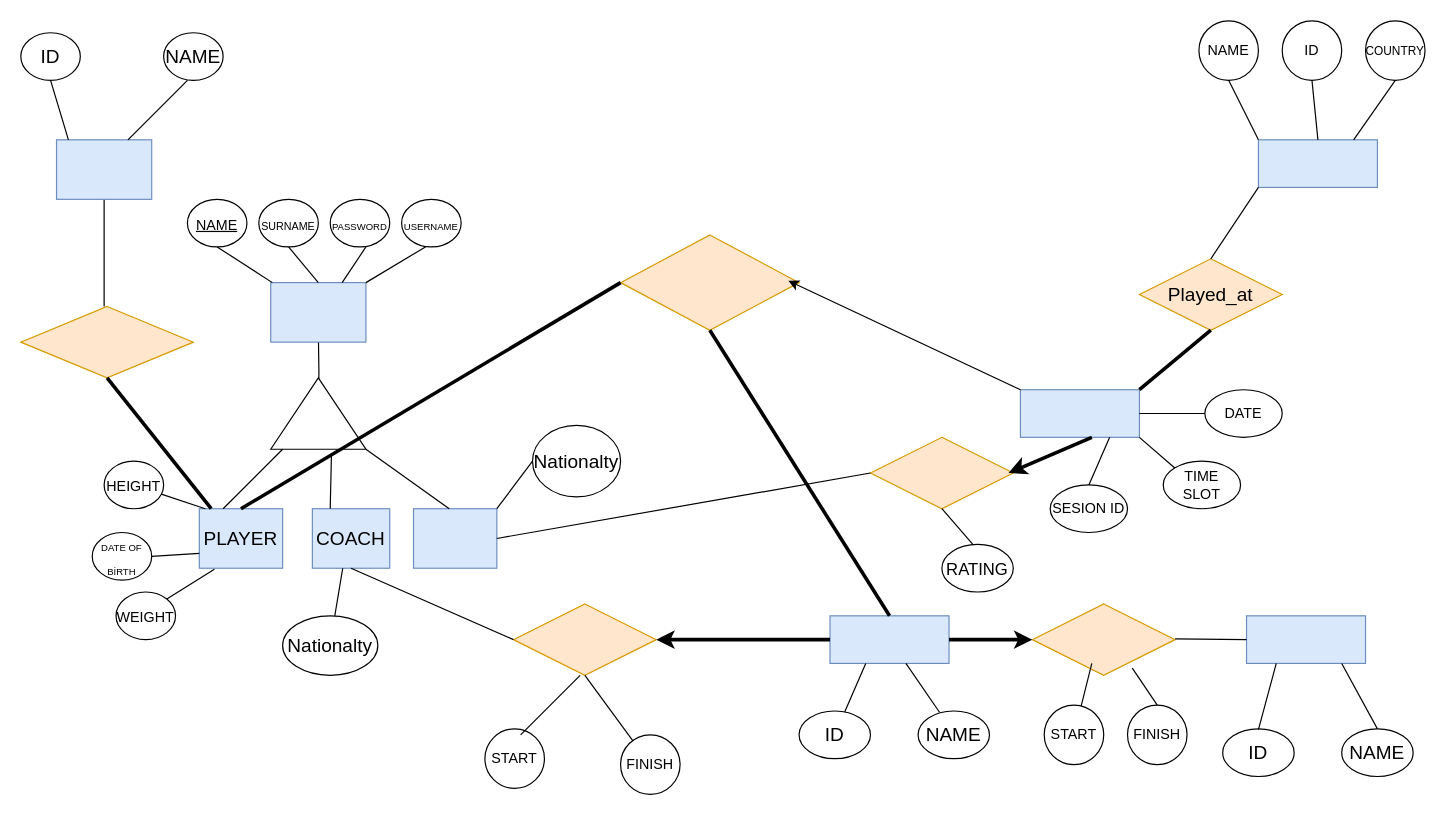
This 1446x815 diagram has some shape labels left out. The box of each missing label's shape, as (x1, y1, x2, y2) in pixels:
CAPABLE OF: (20, 305, 193, 378)
Channel: (1245, 615, 1366, 663)
Contracted: (1031, 603, 1175, 675)
Directs: (512, 603, 656, 675)
ISA: (270, 377, 366, 449)
JURY: (412, 508, 497, 568)
Match Session: (1019, 389, 1139, 437)
Plays_In_Role: (619, 234, 799, 330)
POSITION: (55, 139, 152, 199)
Rates: (869, 436, 1013, 509)
Stad: (1257, 139, 1377, 187)
Team: (829, 615, 949, 663)
USER: (270, 281, 366, 342)
